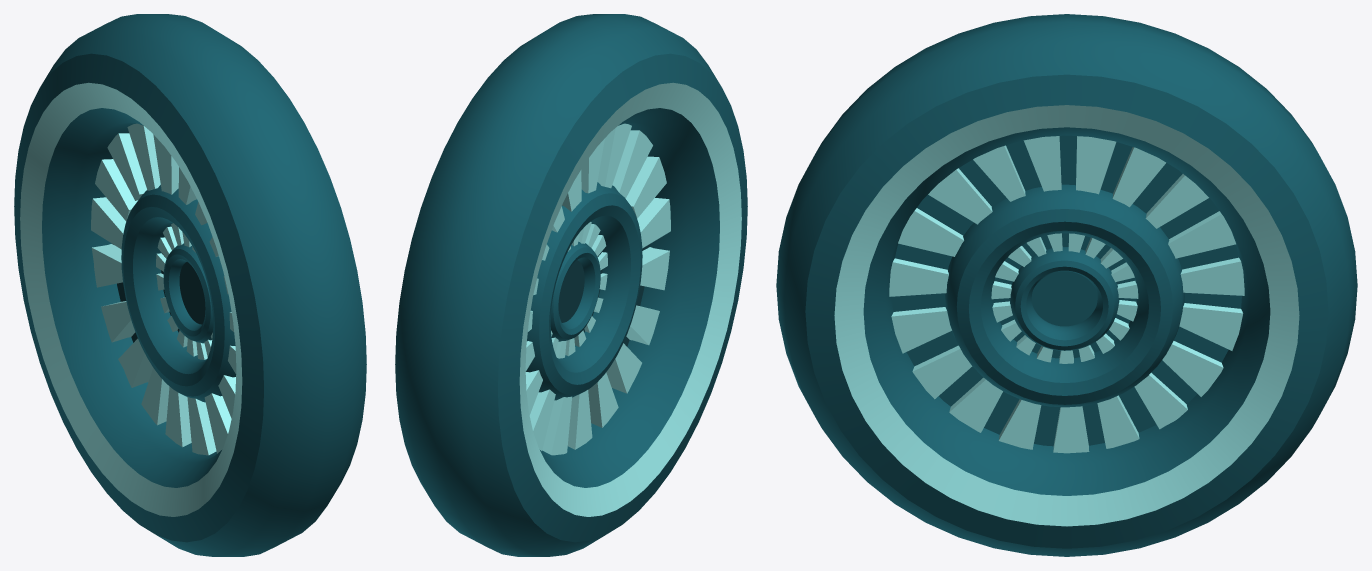
The model's file is Deco_Tire.fbx.
The picture shows the model from 3 angles, left to right: view 1: azimuth 30°, elevation 25°; view 2: azimuth 150°, elevation 25°; view 3: azimuth 270°, elevation 25°; orthographic projection. The views are drawn at different scales.
Visible parts, largest first — view 1: Vert, Plane; view 2: Vert, Plane; view 3: Vert, Plane.
Boxes of the visible parts, <box> form: Vert: <box>14,14,366,556</box>; Plane: <box>111,243,205,342</box>; Vert: <box>395,14,747,556</box>; Plane: <box>558,244,650,346</box>; Vert: <box>776,14,1357,556</box>; Plane: <box>892,135,1241,446</box>.
Bounding box in the file's own units: 6.39 × 25.93 × 25.93.
